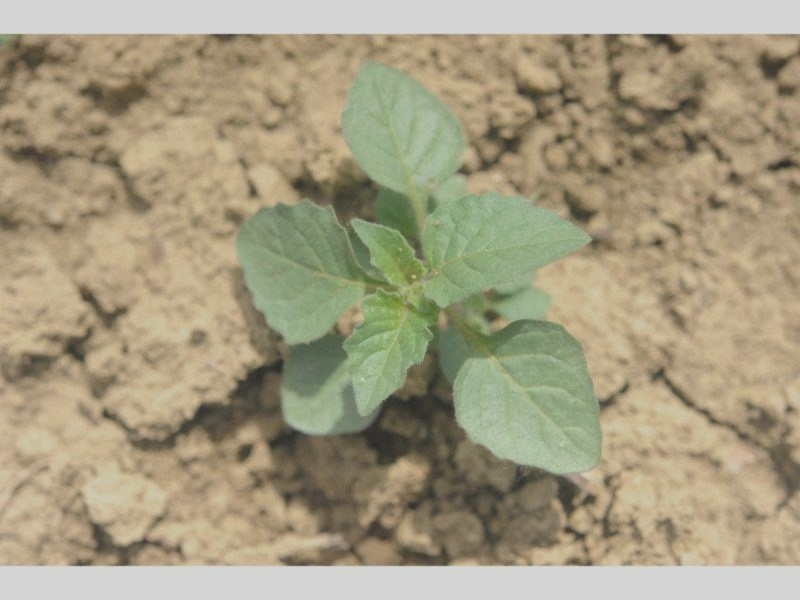nightshade: (240, 59, 601, 476)
